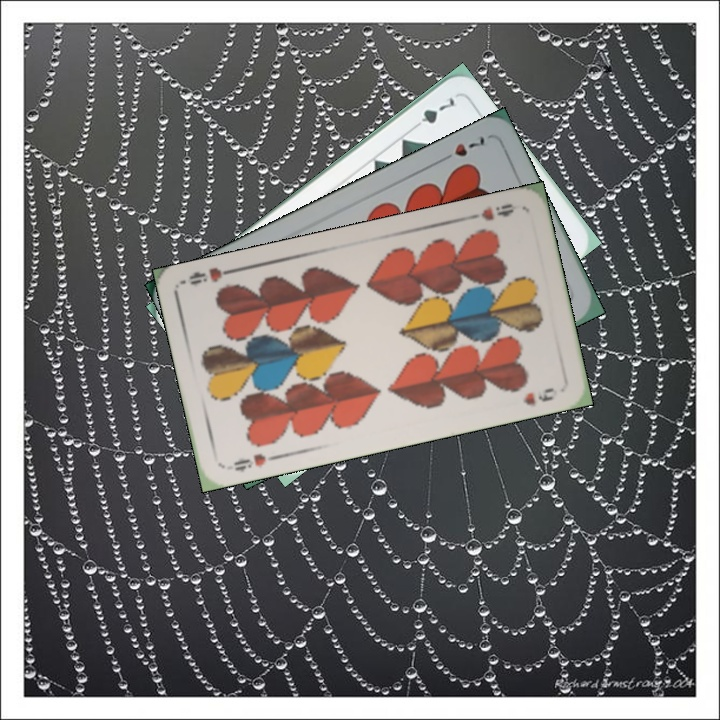G7: (406, 93, 458, 131)
H7: (435, 132, 488, 165)
H9: (463, 199, 519, 224), (230, 449, 281, 475)
